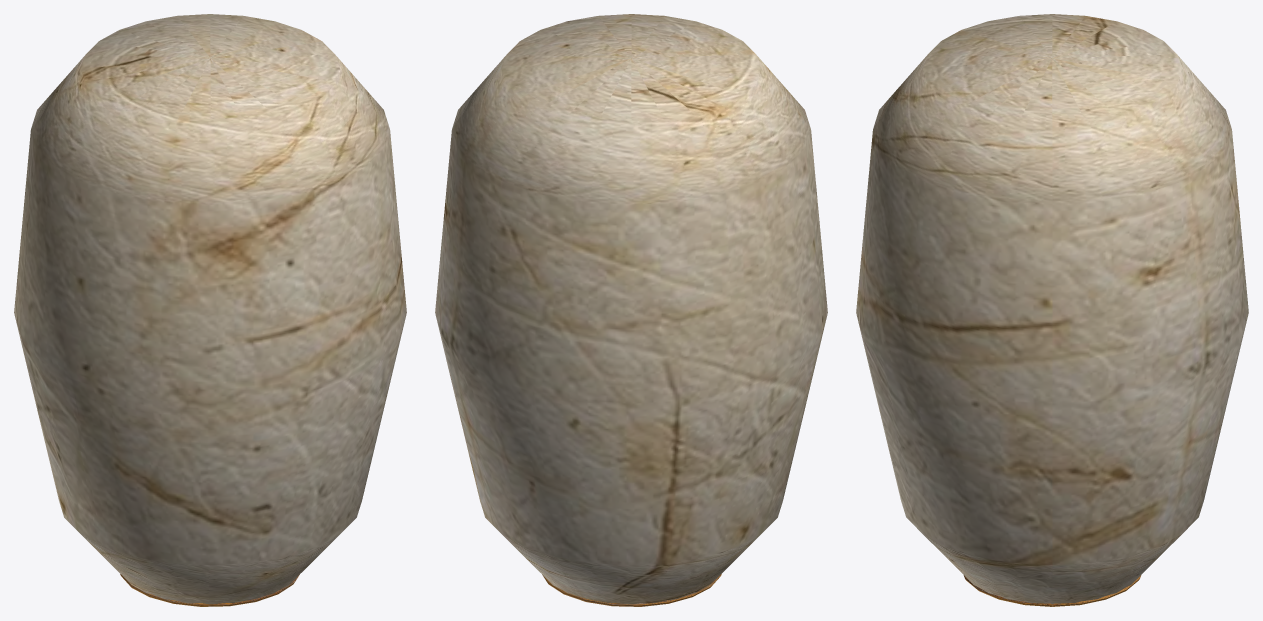
File: prop_fanush.glb
3 views of the same model, side by side, from view 1: azimuth 30°, elevation 25°; view 2: azimuth 150°, elevation 25°; view 3: azimuth 270°, elevation 25° (orthographic).
Visible parts, largest first — view 1: prop_fanush; view 2: prop_fanush; view 3: prop_fanush.
Part boxes in pixels (box(x1,y1,x2,y2)): prop_fanush: box(14, 14, 406, 606); prop_fanush: box(435, 14, 827, 606); prop_fanush: box(856, 14, 1248, 606).
Size of the model in its own units: 0.6976 by 1 by 0.6976.
Materials: 4 (3 with a texture image).
